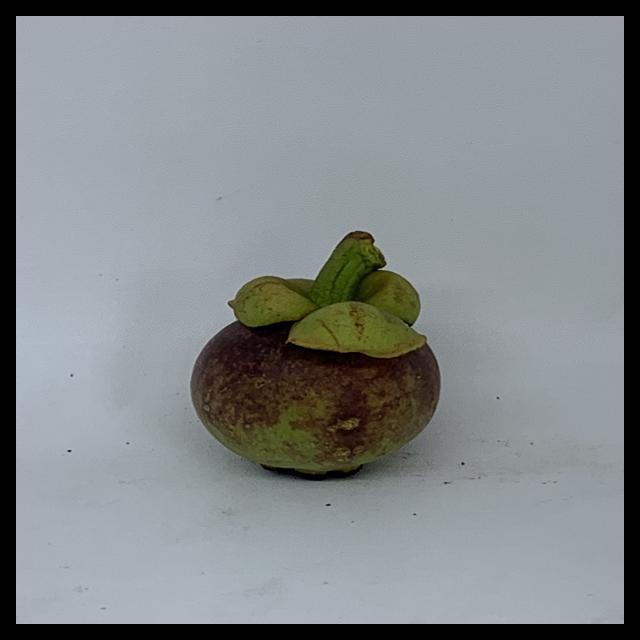mangosteen: (180, 221, 448, 488)
